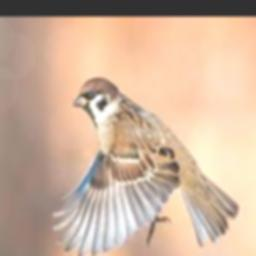Sparrow: (53, 77, 239, 256)
